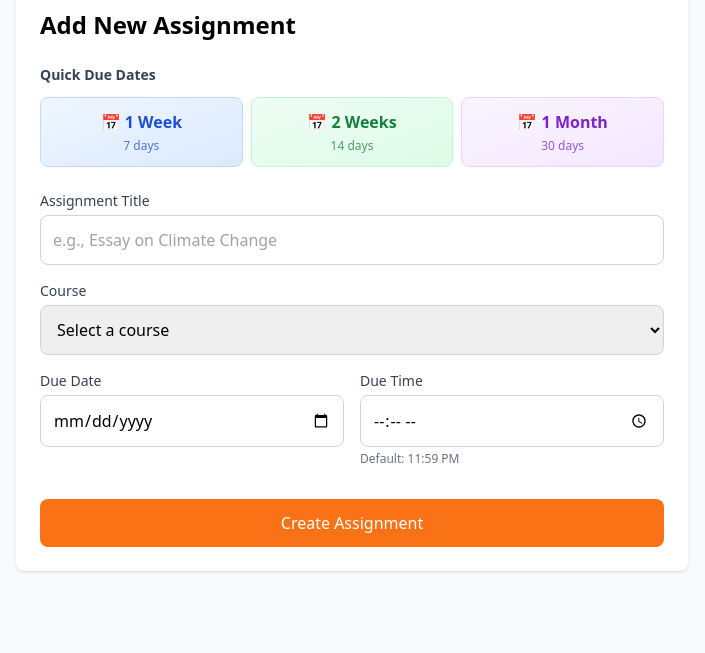
Test: AddAssignmentComponent › Error Handling › displays generic error message for non-Error objects
Type "Test Assignment" into the field with placeholder "e.g., Essay on Climate Change".
click(352, 240); type("Test Assignment")  # box [40, 215, 664, 265]
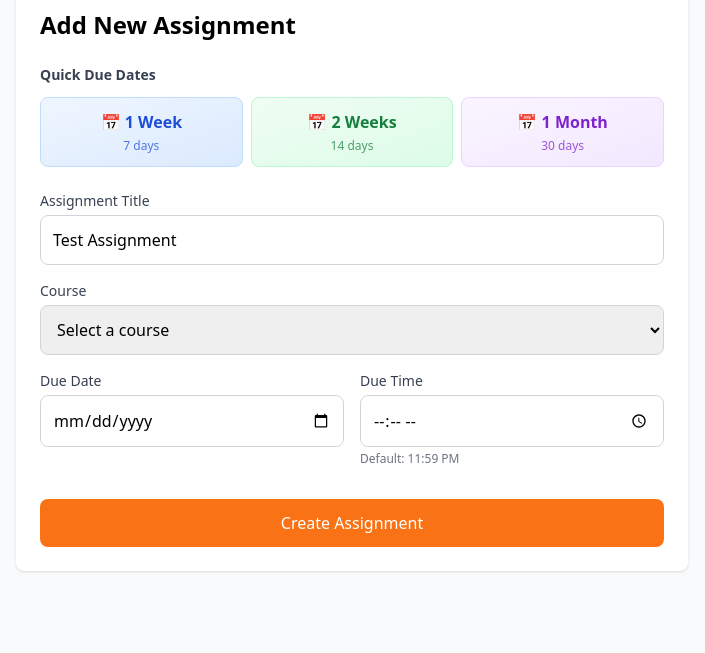
Select "Mathematics 101" in the dropdown at coordinates (352, 330), box [40, 305, 664, 355]
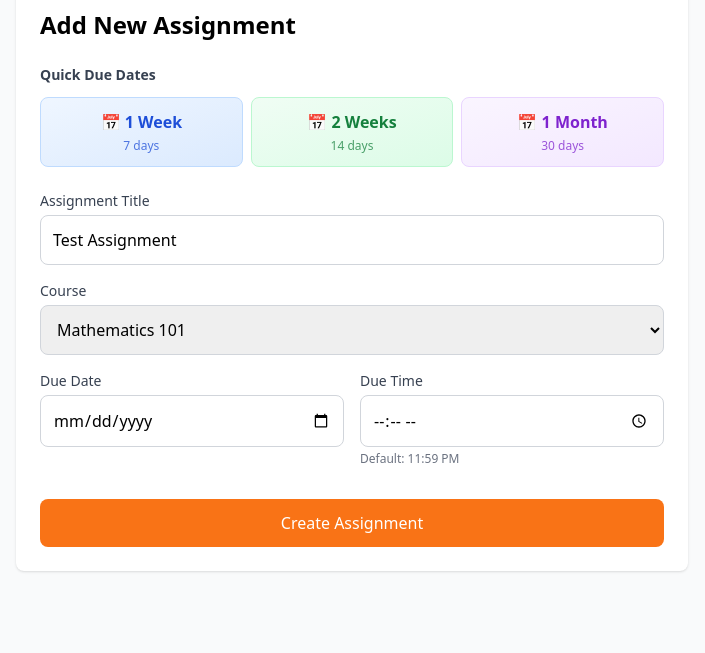
Click the button "📅 1 Week 7 days".
click(141, 132)  # box [40, 97, 243, 167]
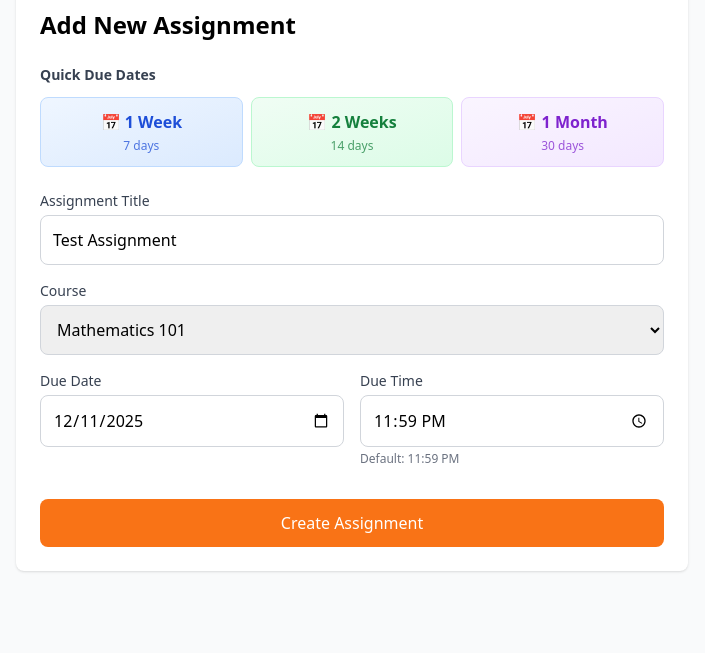
Click the button "Create Assignment".
click(352, 523)  # box [40, 499, 664, 547]
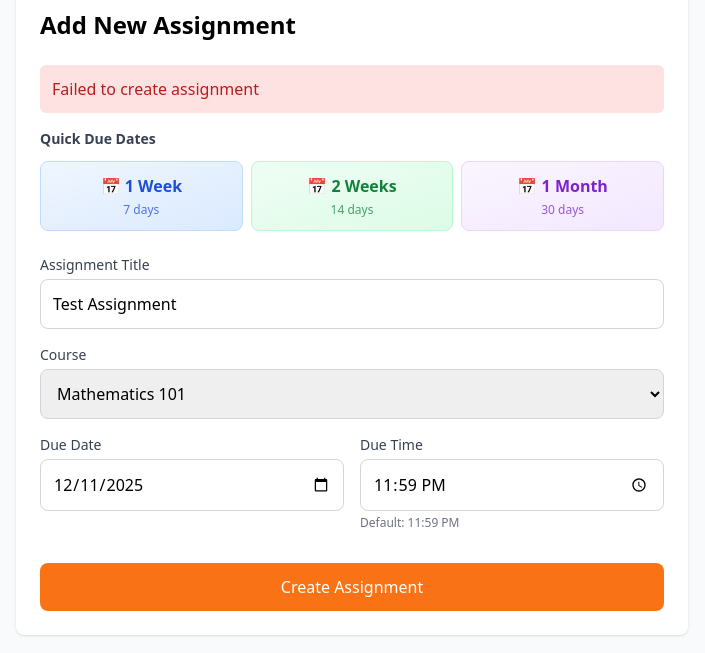
Check: the text "Failed to create assignment" is shown, box [40, 65, 664, 113]
